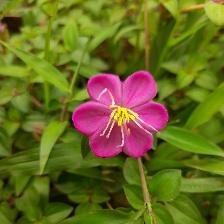malabar melastome: (69, 71, 172, 163)
